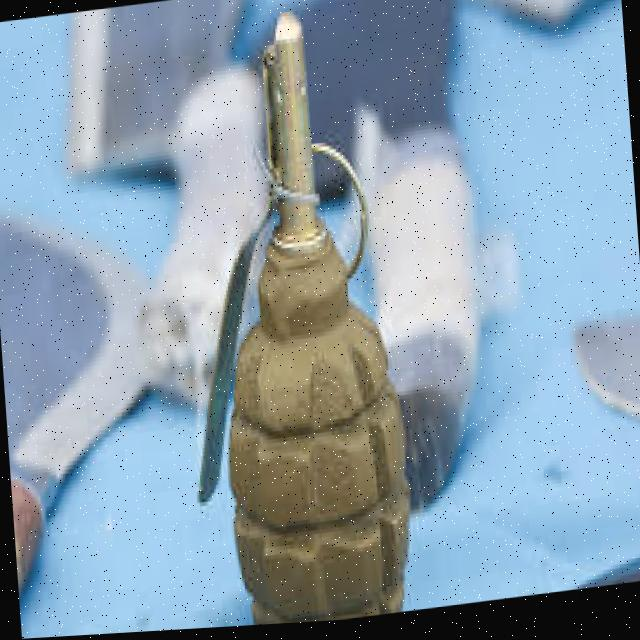grenade: (161, 7, 417, 633)
